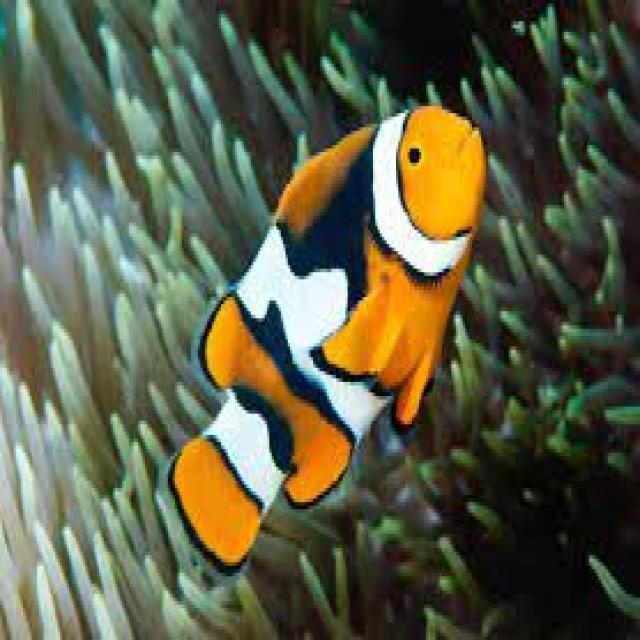ClownFish: (162, 104, 488, 570)
